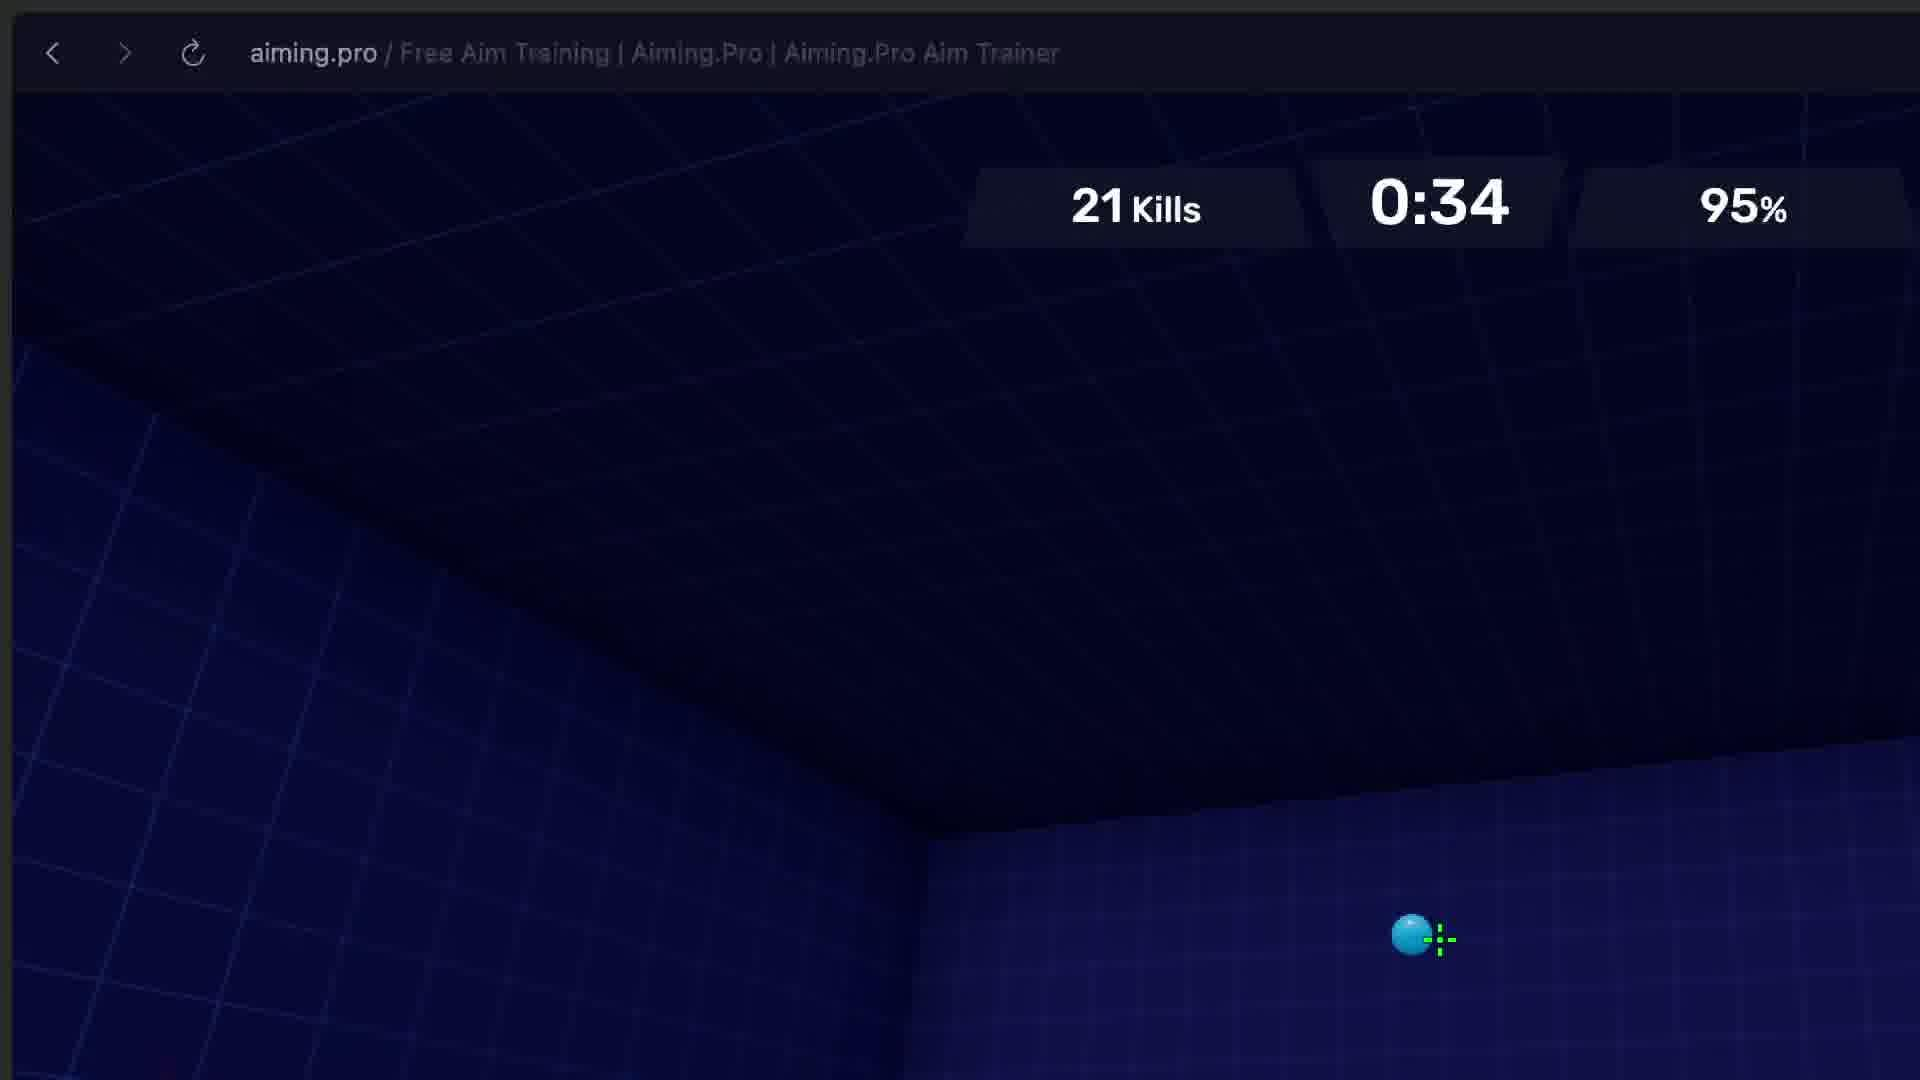target: (1391, 914, 1433, 955)
